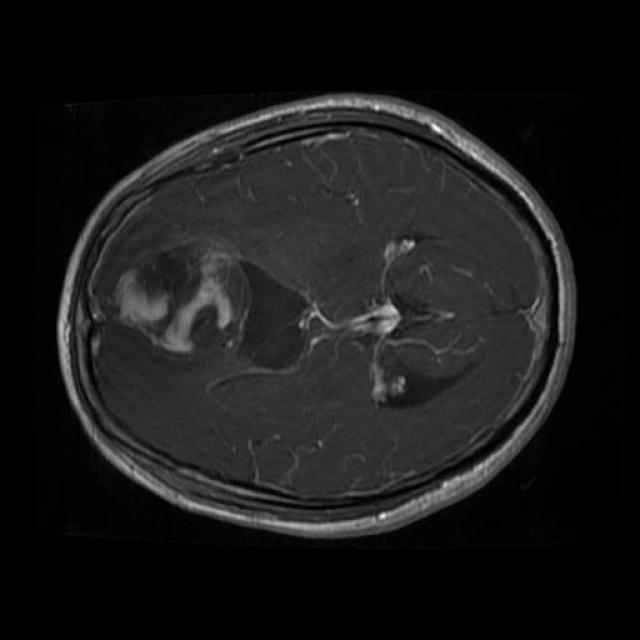Glioma: (91, 242, 319, 375)
